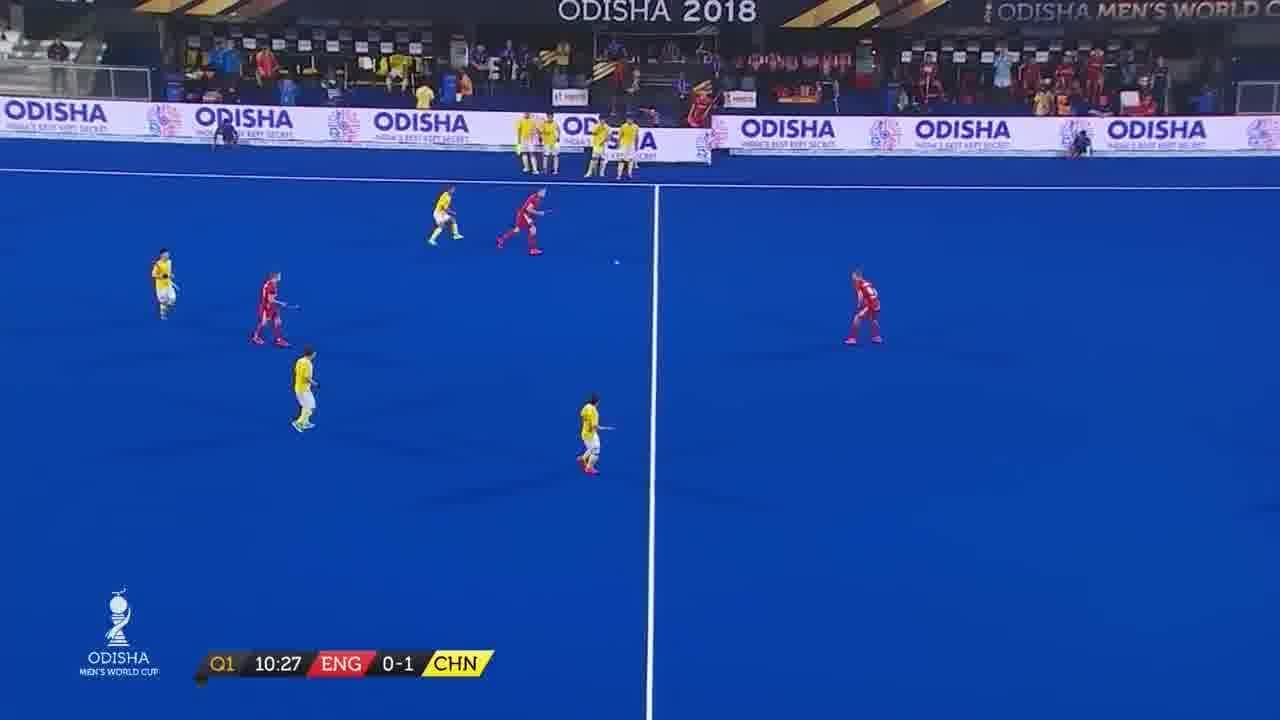ball: (608, 253, 625, 270)
